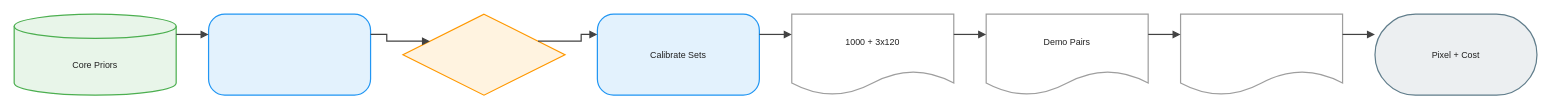
This 1552x110 diagram has some shape labels left out. Each missing label, with the box of its shape:
Curate Tasks: (208, 13, 371, 95)
Human Pass@2: (402, 13, 565, 95)
Output Grid: (1180, 13, 1343, 95)
